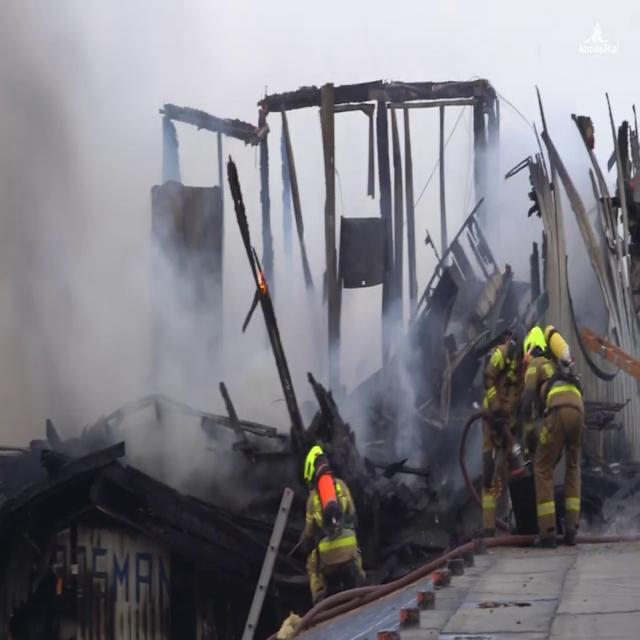Smoke: (0, 0, 220, 477), (221, 256, 433, 482), (465, 105, 640, 363)
